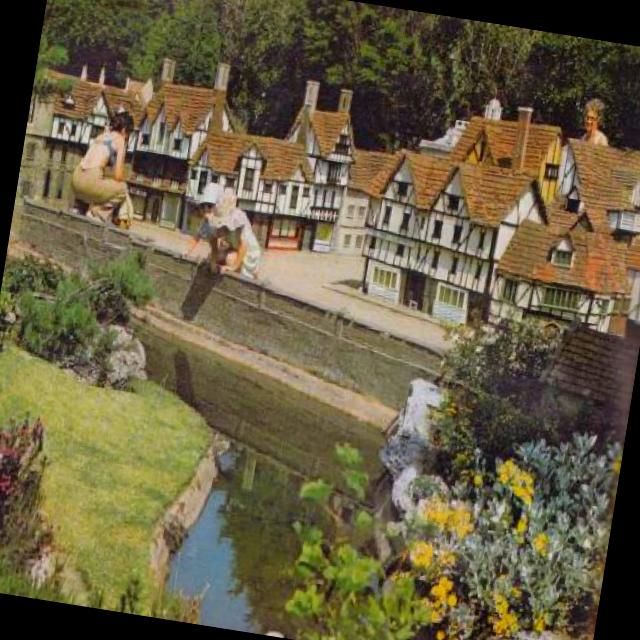Person: (66, 98, 136, 227), (204, 188, 272, 278), (178, 175, 240, 272), (576, 98, 616, 150)
